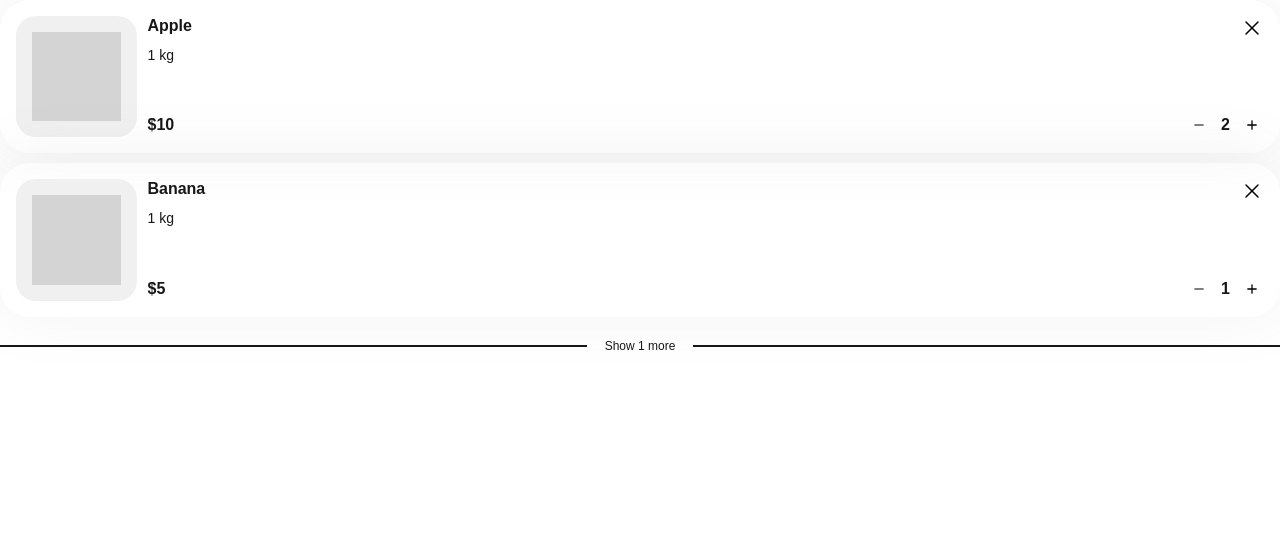
it: CartItemsList component › shows all items when clicking 'Show more' and toggles to 'Less items'
The width and height of the screenshot is (1280, 534).
Click the text "Show 1 more" at [640, 346], box [605, 339, 675, 354]
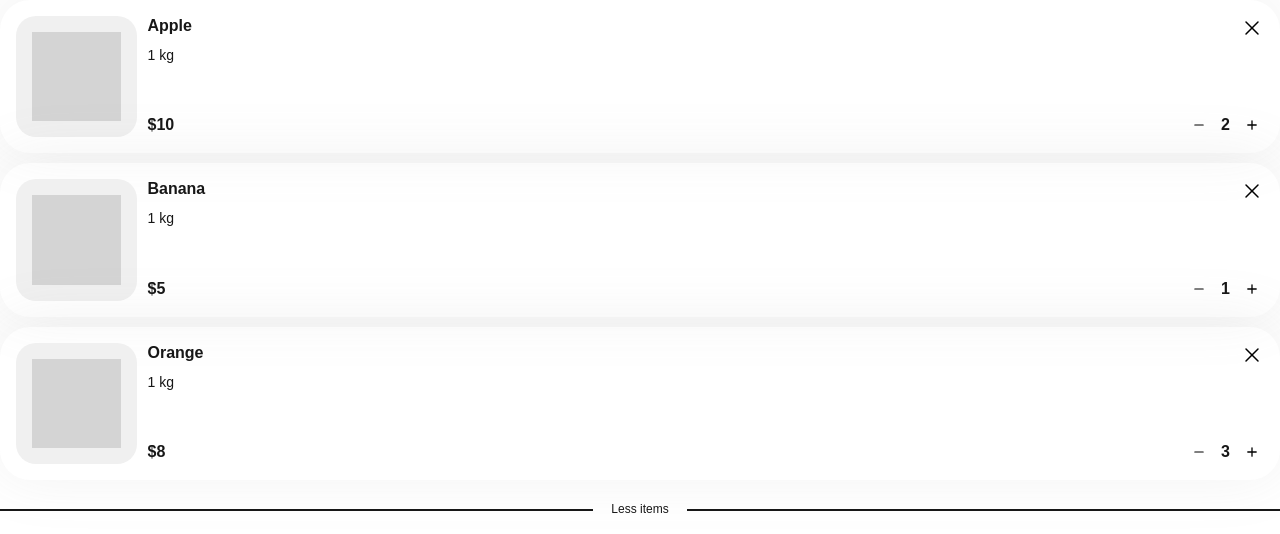
Expected: the text "Orange" is shown, [148, 343, 204, 363]
Expected: the text "Less items" is shown
Note: Кликаем снова для сворачивания
Click the text "Less items" at [640, 510], box [611, 502, 669, 517]
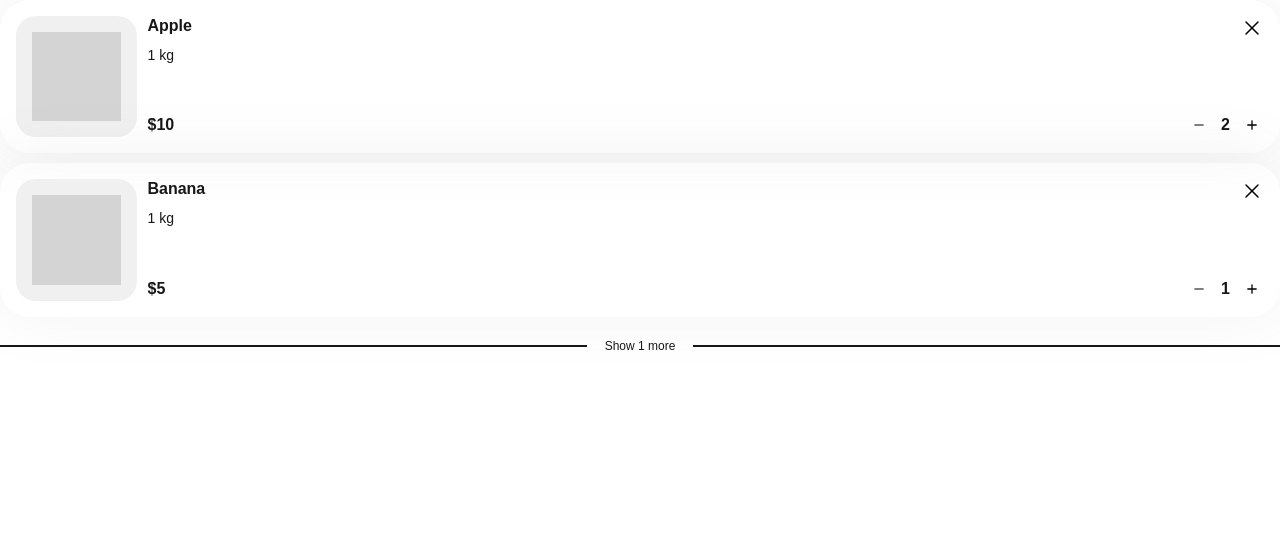
Expected: the text "Orange" is gone
Expected: the text "Show 1 more" is shown, [605, 339, 675, 354]
